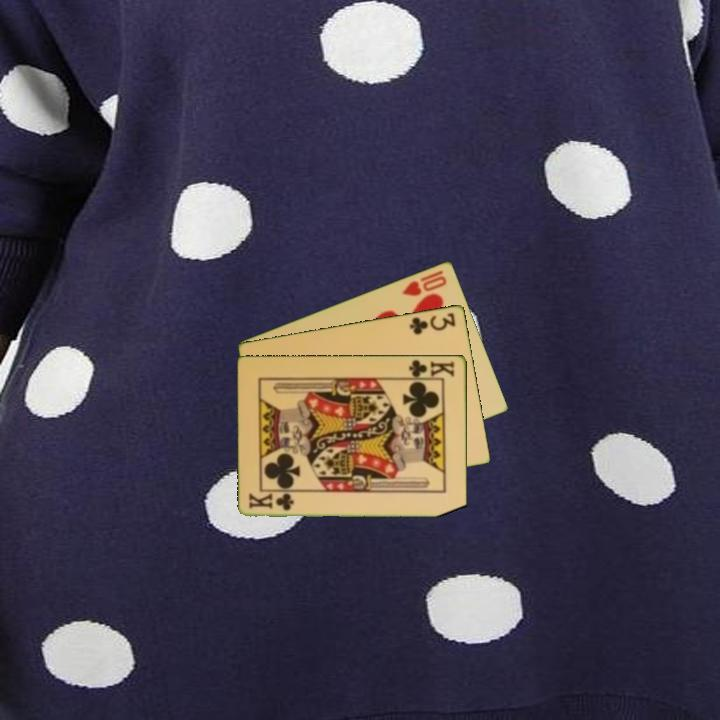10h: (399, 272, 450, 299)
3c: (406, 309, 459, 337)
Kc: (404, 356, 457, 381), (246, 490, 297, 513)
